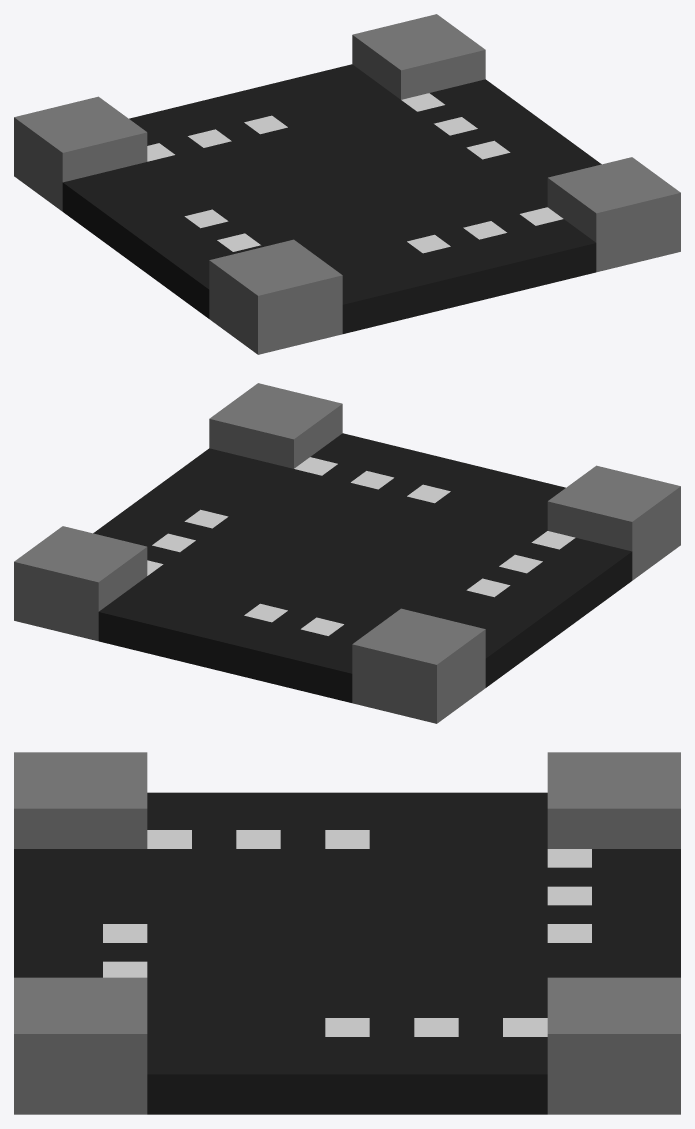
File: Intersection03.obj
3 renders of one model, top to bottom at view 1: azimuth 30°, elevation 25°; view 2: azimuth 150°, elevation 25°; view 3: azimuth 270°, elevation 25°, orthographic. The views are drawn at different scales.
Parts seen in each view (by area): view 1: Intersection03; view 2: Intersection03; view 3: Intersection03.
Part boxes in pixels (box(x1,y1,x2,y2)): Intersection03: box(14, 14, 680, 354); Intersection03: box(14, 383, 680, 723); Intersection03: box(14, 752, 680, 1114).
Size of the model in its own units: 1.5 by 0.2 by 1.5.
Materials: 1 (1 with a texture image).
